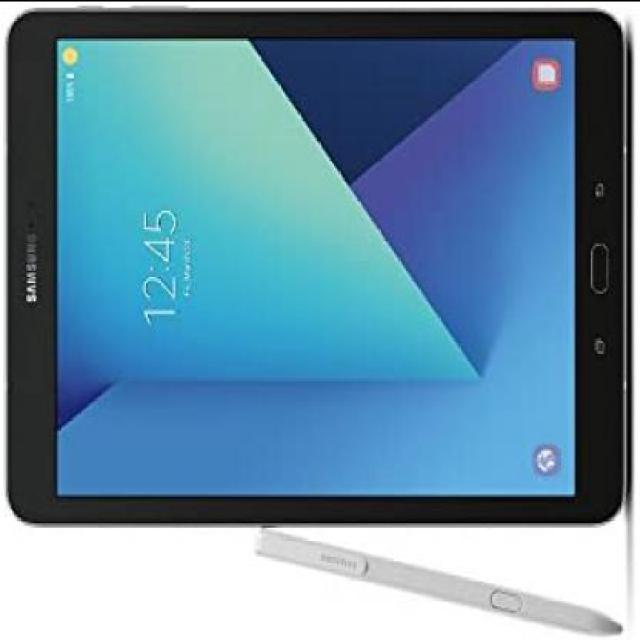tablet: (8, 6, 640, 569)
